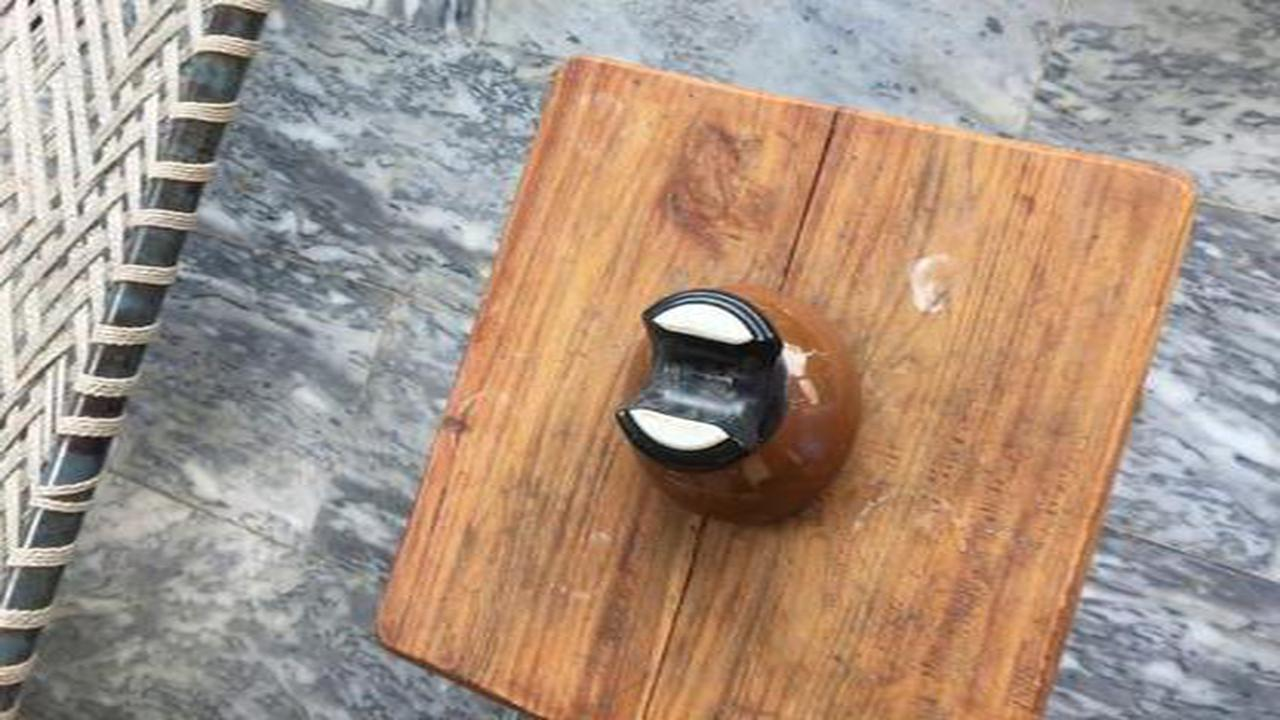insulator_pin: (597, 277, 884, 539)
